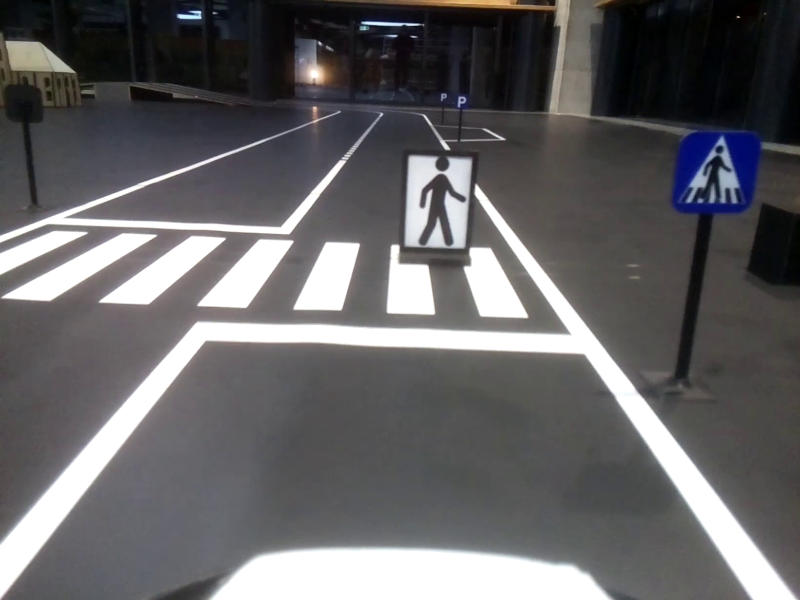pedestrian: (676, 127, 755, 216)
